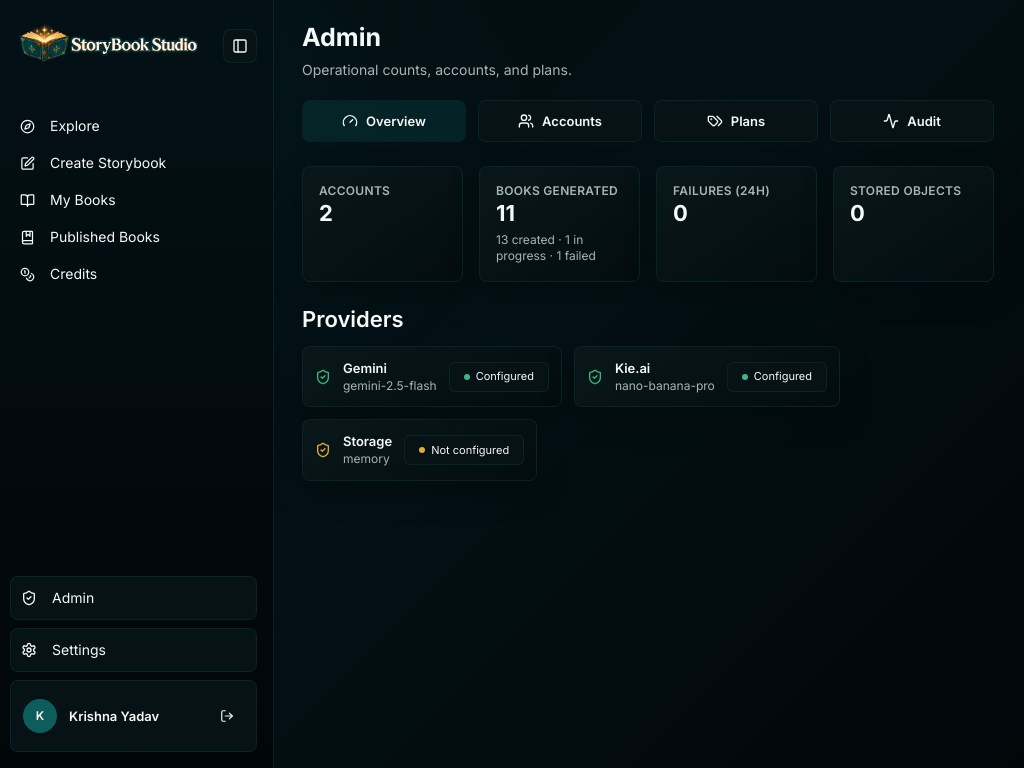
Scenario: acting on an account › offers no suspend or role controls on your own row
The image size is (1024, 768).
What coordinates should you click on to do the following:
click the tab "Accounts"
I would click on:
 (560, 121)
Its box is [478,100,642,142].
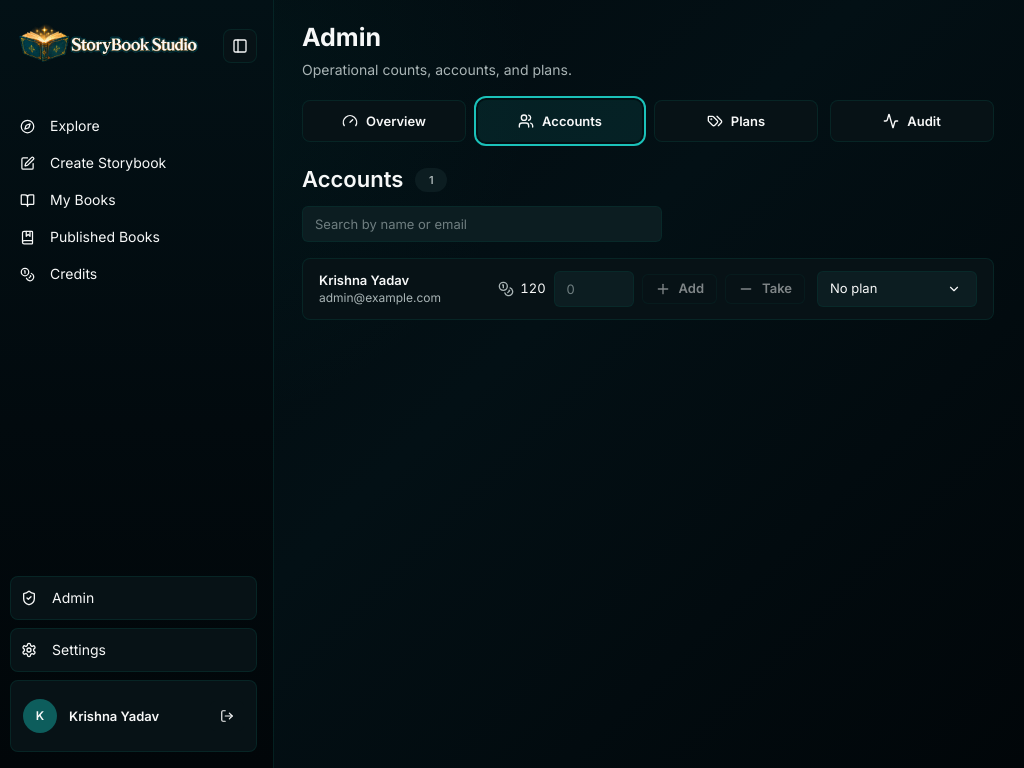
Expected: the text "admin@example.com" is shown, [319,290,441,305]
Expected: the button "Add" is shown, [642,274,717,304]
